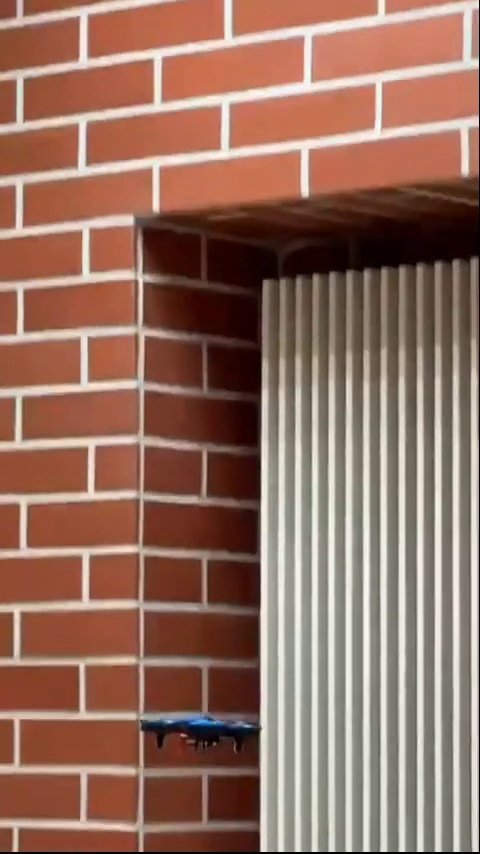drone: (141, 712, 263, 759)
